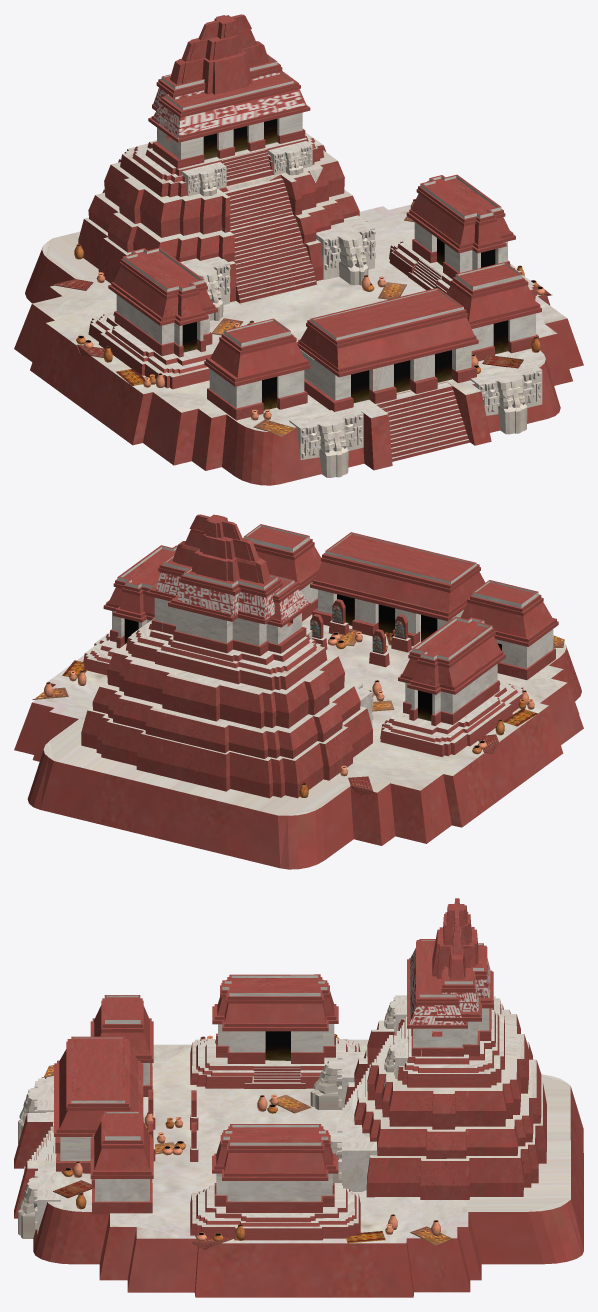
Rendered from maya_wonder_new.dae.
3 renders of one model, top to bottom at view 1: azimuth 30°, elevation 25°; view 2: azimuth 150°, elevation 25°; view 3: azimuth 270°, elevation 25°, orthographic. The views are drawn at different scales.
Visible parts, largest first — view 1: wonder; view 2: wonder; view 3: wonder.
Boxes of the visible parts, x1,y1,x2,y2 form: wonder: [14, 14, 583, 485]; wonder: [14, 514, 583, 869]; wonder: [14, 898, 583, 1297].
Size of the model in its own units: 53.79 by 59.91 by 33.21.
